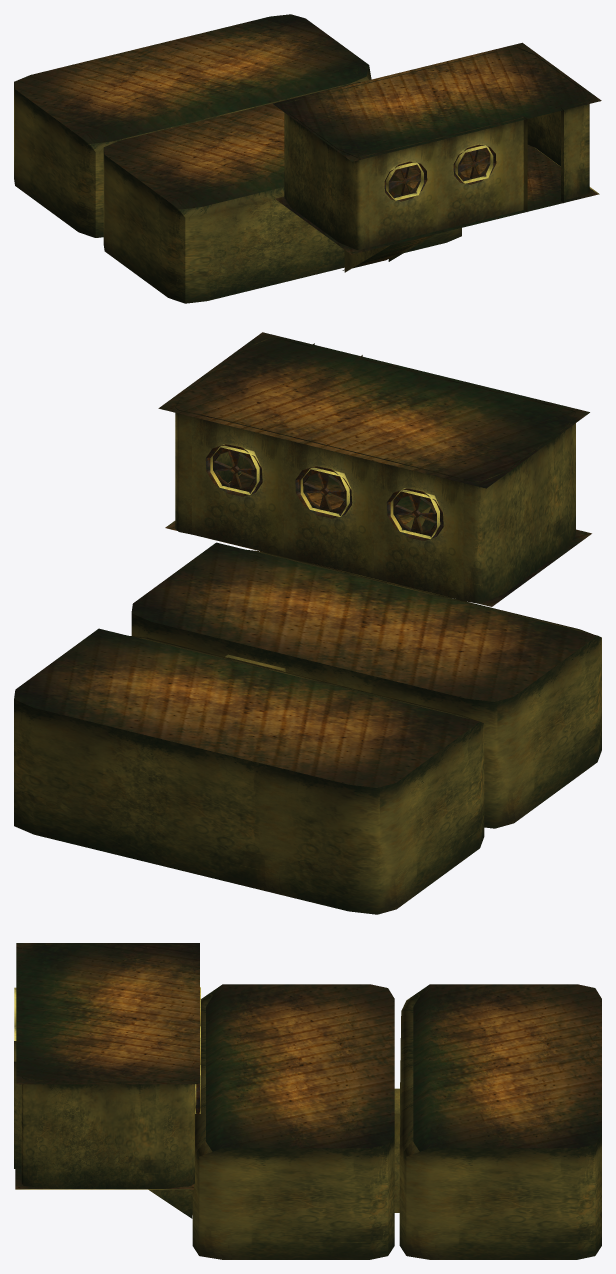
Rendered from CasaInteriorAmarillo.fbx.
The picture shows the model from 3 angles, top to bottom: view 1: azimuth 30°, elevation 25°; view 2: azimuth 150°, elevation 25°; view 3: azimuth 270°, elevation 25°; orthographic projection. The views are drawn at different scales.
Visible parts, largest first — view 1: polySurface5, polySurface3, polySurface16, polySurface12, polySurface13, polySurface14, polySurface15; view 2: polySurface5, polySurface16, polySurface3; view 3: polySurface5, polySurface3, polySurface16, polySurface13.
Part boxes in pixels (box(x1,y1,x2,y2)): polySurface5: box(14, 14, 371, 237); polySurface3: box(103, 82, 461, 303); polySurface16: box(273, 42, 601, 272); polySurface12: box(356, 117, 527, 249); polySurface13: box(561, 100, 589, 202); polySurface14: box(453, 144, 496, 184); polySurface15: box(384, 161, 427, 201); polySurface5: box(14, 628, 484, 914); polySurface16: box(158, 332, 591, 606); polySurface3: box(131, 542, 601, 828); polySurface5: box(399, 984, 601, 1259); polySurface3: box(192, 984, 399, 1259); polySurface16: box(15, 943, 200, 1218); polySurface13: box(14, 1061, 23, 1185).
Bounding box in the file's own units: 5.38 × 2.75 × 6.87.
1 material, 1 textured.
